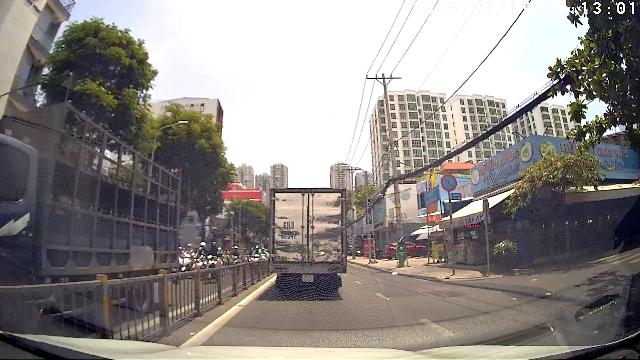131a-cam-do-xe: (440, 174, 458, 192)
